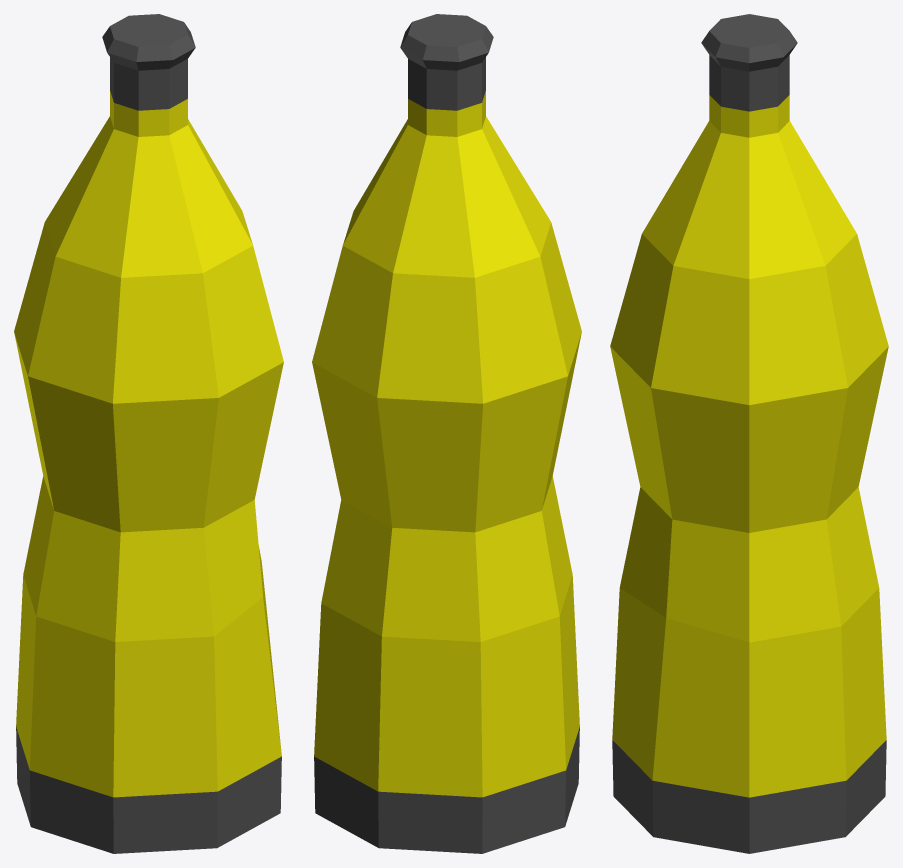
The model's file is bottiglia.fbx.
The picture shows the model from 3 angles, left to right: view 1: azimuth 30°, elevation 25°; view 2: azimuth 150°, elevation 25°; view 3: azimuth 270°, elevation 25°; orthographic projection.
Parts seen in each view (by area): view 1: p8_final; view 2: p8_final; view 3: p8_final.
Part boxes in pixels (x1,y1,x2,y2): p8_final: (14,14,283,853); p8_final: (312,14,581,853); p8_final: (610,14,888,853).
Size of the model in its own units: 4.55 by 13.8 by 4.55.
